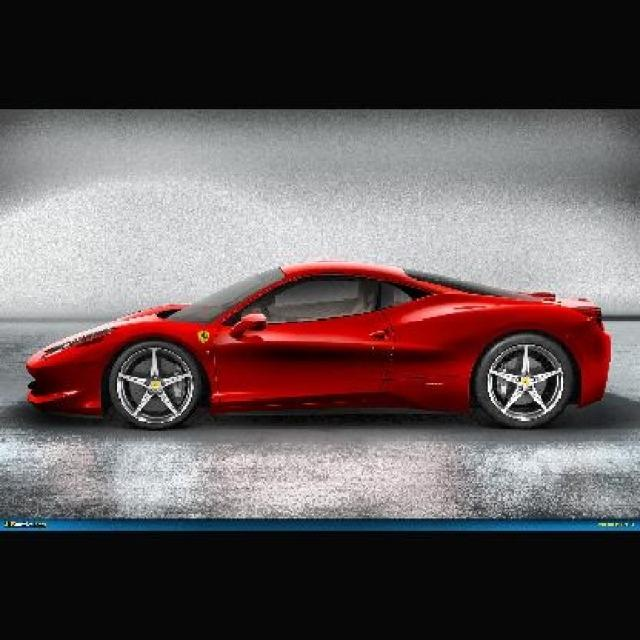red: (20, 261, 612, 430)
